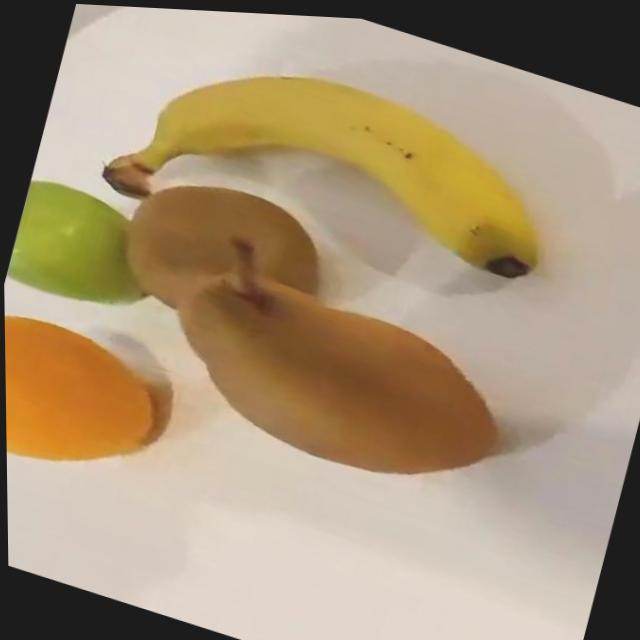Apple: (2, 154, 196, 340)
Banana: (94, 14, 566, 318)
Orange: (3, 294, 186, 496)
